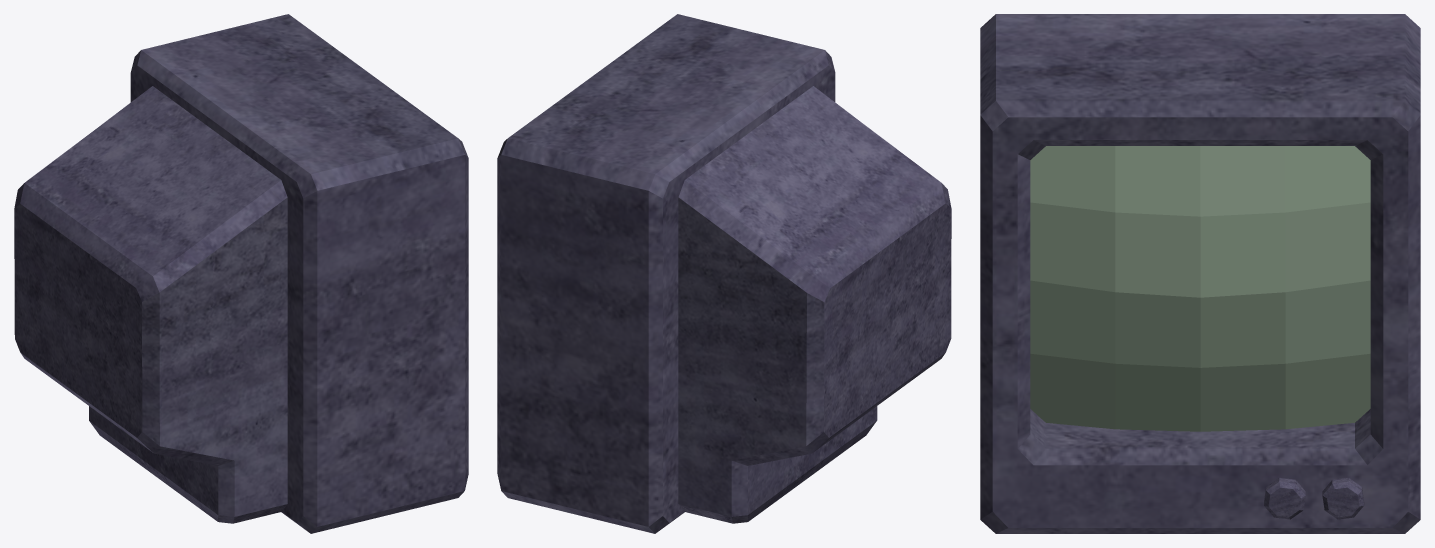
File: OldTV_02.fbx
3 views of the same model, side by side, from view 1: azimuth 30°, elevation 25°; view 2: azimuth 150°, elevation 25°; view 3: azimuth 270°, elevation 25° (orthographic). The views are drawn at different scales.
Visible parts, largest first — view 1: OldTV_01; view 2: OldTV_01; view 3: OldTV_01.
Part boxes in pixels (left/top/right/bottom): OldTV_01: left=14, top=14, right=468, bottom=533; OldTV_01: left=497, top=14, right=951, bottom=533; OldTV_01: left=980, top=14, right=1420, bottom=533.
Bounding box in the file's own units: 5.24 × 5.72 × 5.27.
